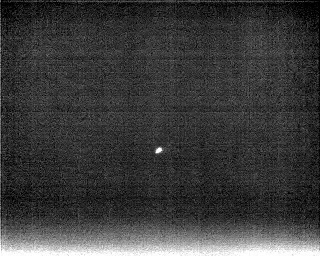BIRD: (153, 144, 165, 157)
